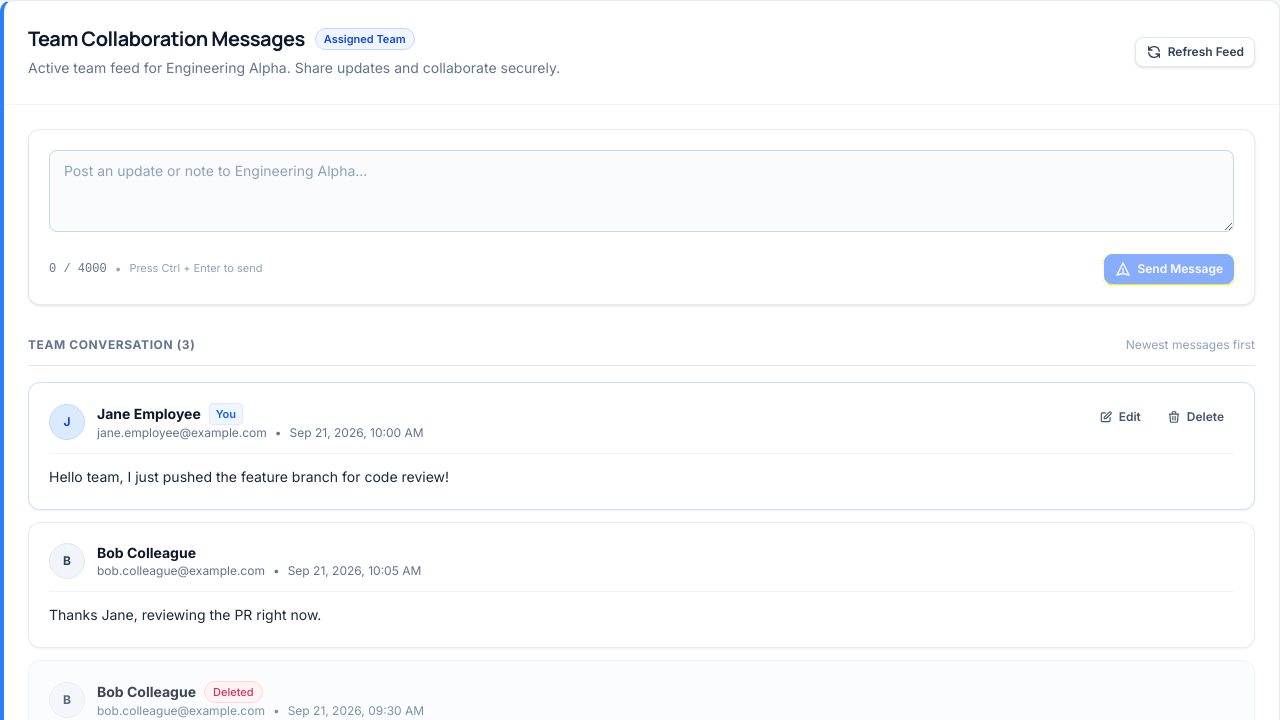
Test case: Collaboration Messages Feature Suite › Employee Workflow › employee can edit their own message
Expected: the text "Hello team, I just pushed the feature branch for code review!" is shown, [49, 468, 449, 485]
# Click Edit on Jane's own message
Click the button with aria-label "edit message" at [1120, 417], box [1089, 403, 1151, 431]
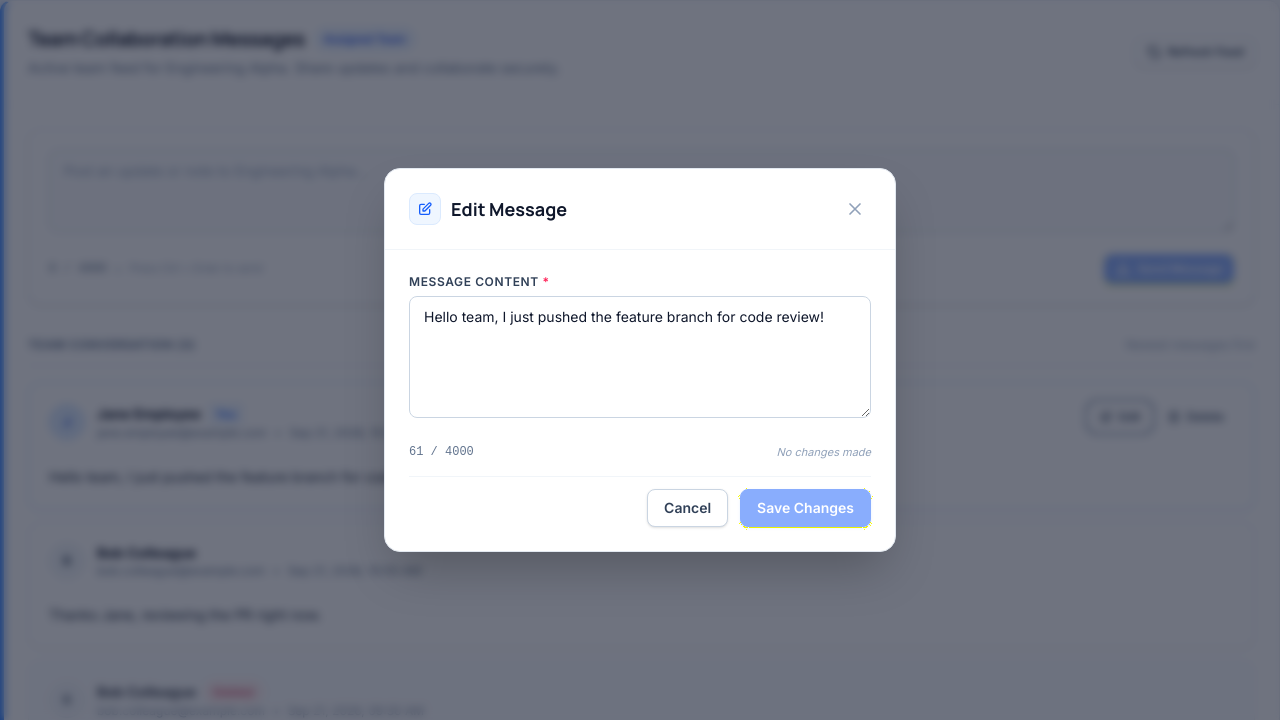
Expected: the heading "Edit Message" is shown, [451, 195, 567, 223]
Expected: the text box labelled "Message Content *" holds "Hello team, I just pushed the feature branch for code review!"
# Update content
Replace the text in the text box labelled "Message Content *" with "Hello team, I pushed the updated PR with test coverage!" at [640, 357], box [409, 296, 871, 418]
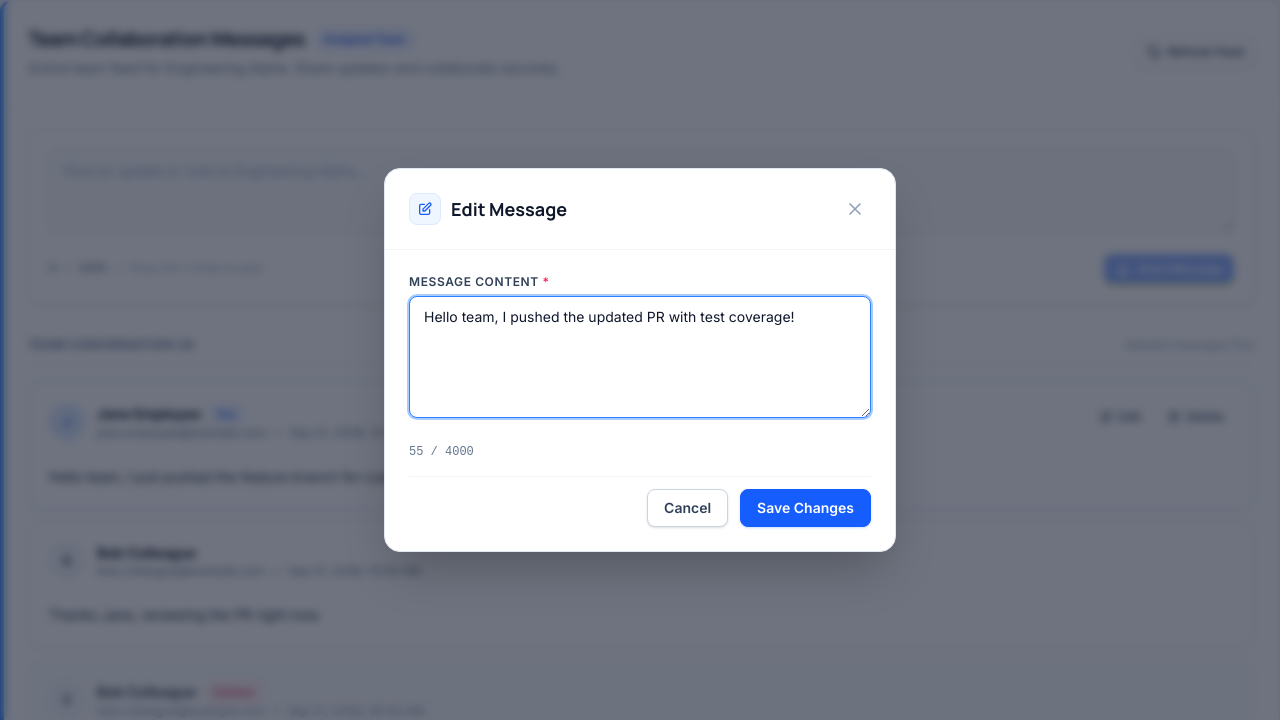
Click the button "Save Changes" at [806, 508], box [740, 489, 871, 527]
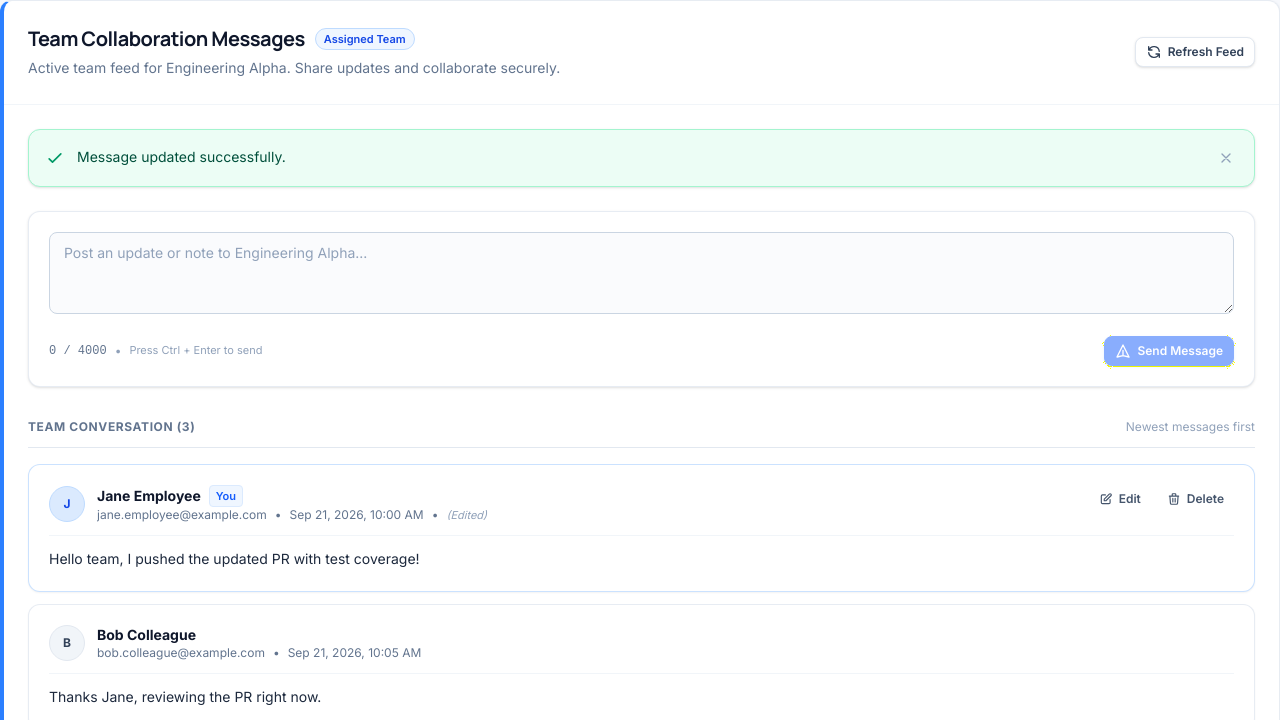
Expected: the text "Hello team, I pushed the updated PR with test coverage!" is shown, [49, 550, 420, 567]
Expected: the text "Message updated successfully." is shown, [77, 148, 286, 165]
